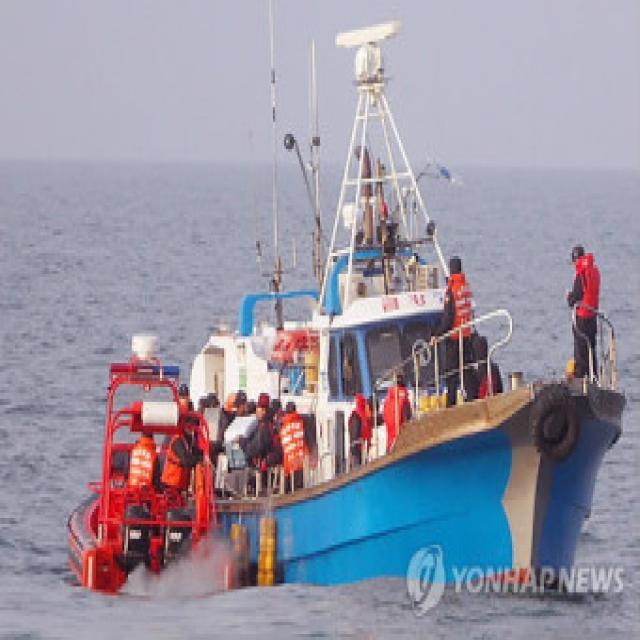Ship: (65, 1, 640, 605)
